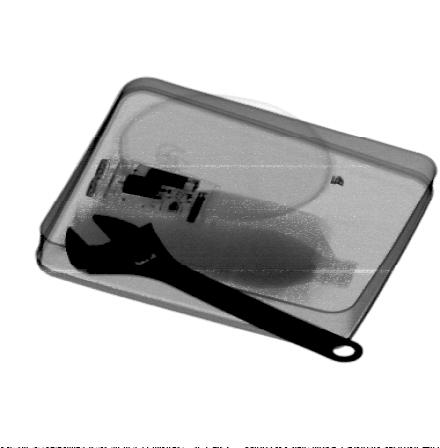Wrench: (64, 215, 364, 366)
